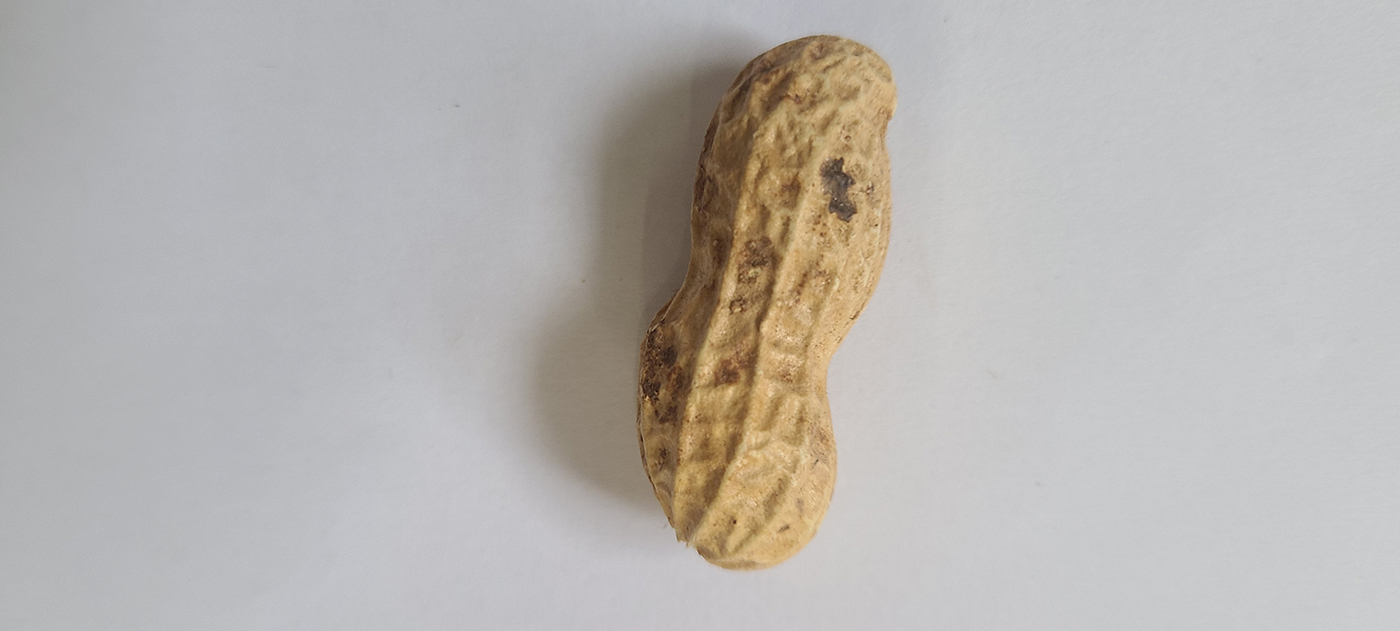h: (635, 32, 898, 574)
